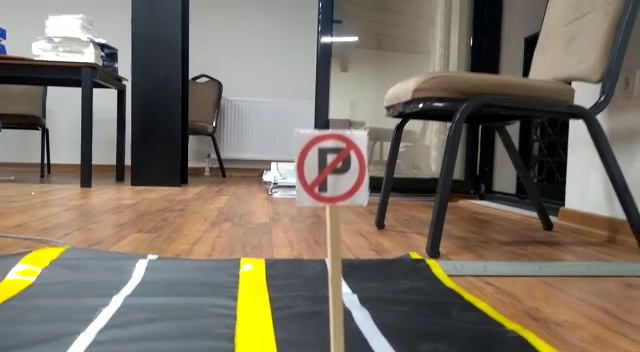park_yapilmaz: (292, 131, 369, 202)
